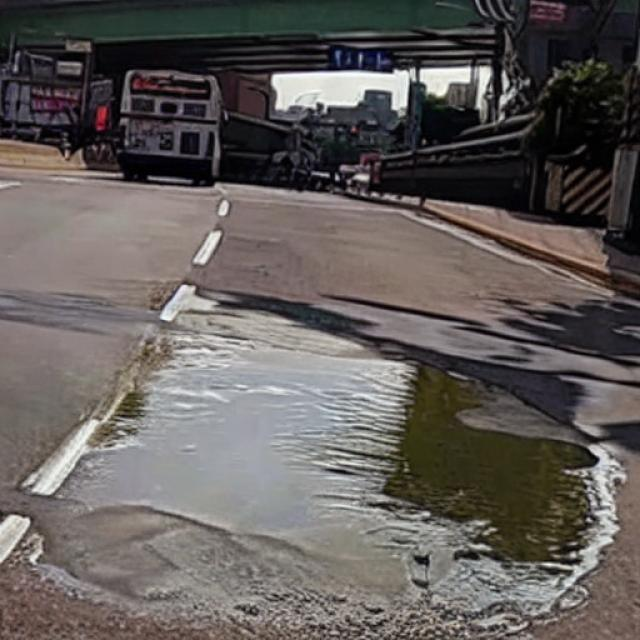puddle: (44, 293, 603, 627)
